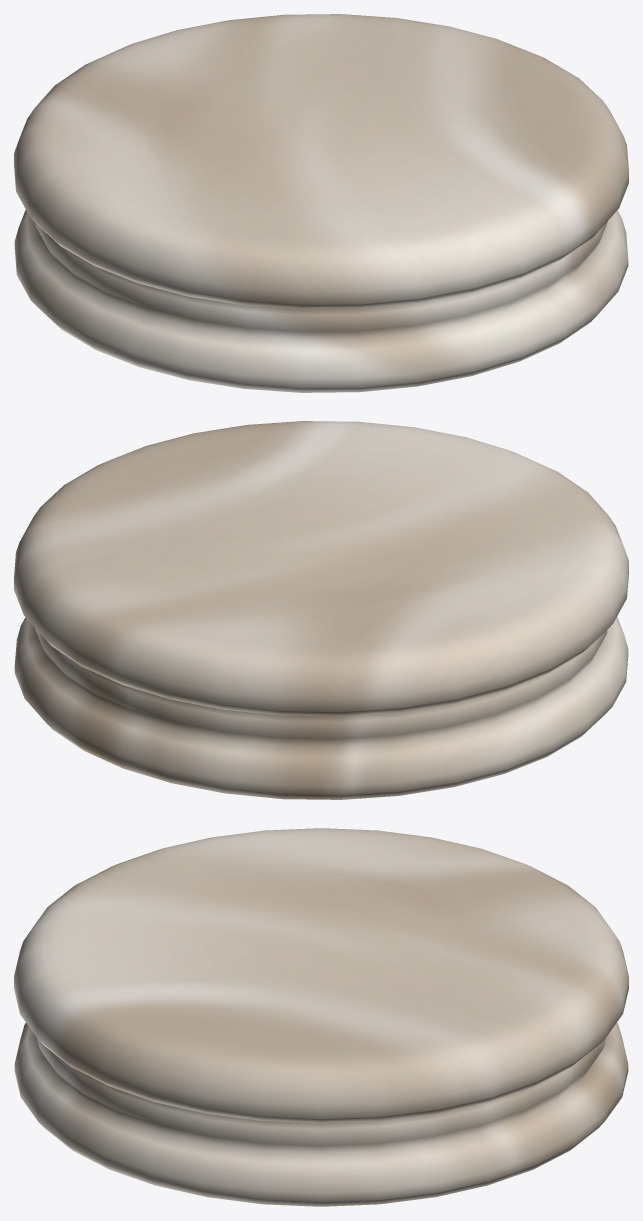
The model's file is Alfajor.fbx.
3 renders of one model, top to bottom at view 1: azimuth 30°, elevation 25°; view 2: azimuth 150°, elevation 25°; view 3: azimuth 270°, elevation 25°, orthographic.
Parts seen in each view (by area): view 1: Alfajor; view 2: Alfajor; view 3: Alfajor.
Boxes of the visible parts, x1=… form: Alfajor: x1=14, y1=14, x2=628, y2=392; Alfajor: x1=14, y1=421, x2=628, y2=799; Alfajor: x1=14, y1=828, x2=628, y2=1206.
Size of the model in its own units: 55.47 by 13.8 by 55.47.
1 material, 1 textured.
